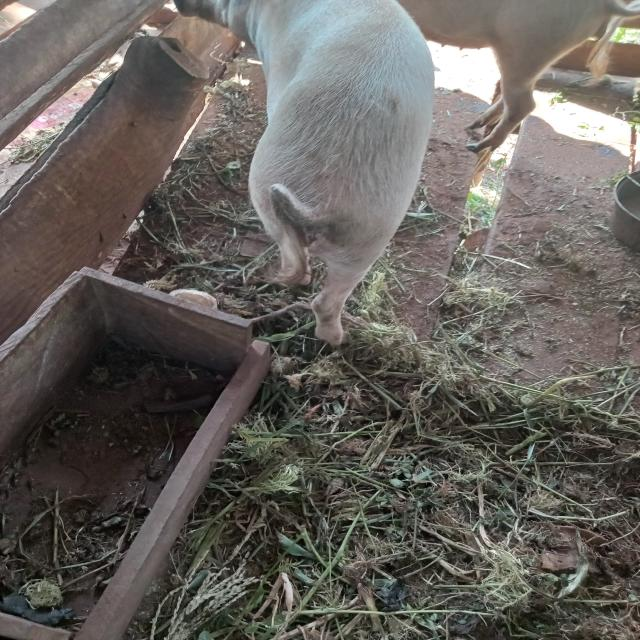pig: (115, 0, 520, 364)
